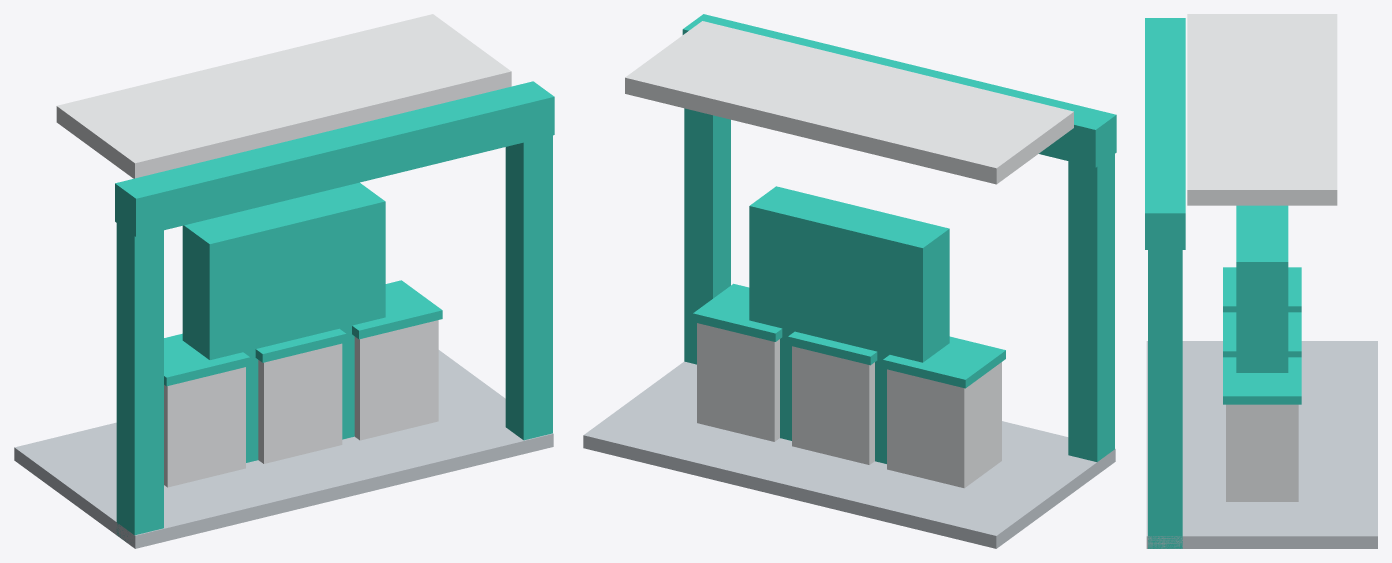
3 renders of one model, left to right at view 1: azimuth 30°, elevation 25°; view 2: azimuth 150°, elevation 25°; view 3: azimuth 270°, elevation 25°, orthographic. The views are drawn at different scales.
Parts seen in each view (by area): view 1: Exhibition Booth Concept; view 2: Exhibition Booth Concept; view 3: Exhibition Booth Concept.
Part boxes in pixels (x1,y1,x2,y2): Exhibition Booth Concept: (14,14,554,548); Exhibition Booth Concept: (583,14,1116,548); Exhibition Booth Concept: (1145,14,1377,548).
Bounding box in the file's own units: 4 × 3.34 × 2.01.
